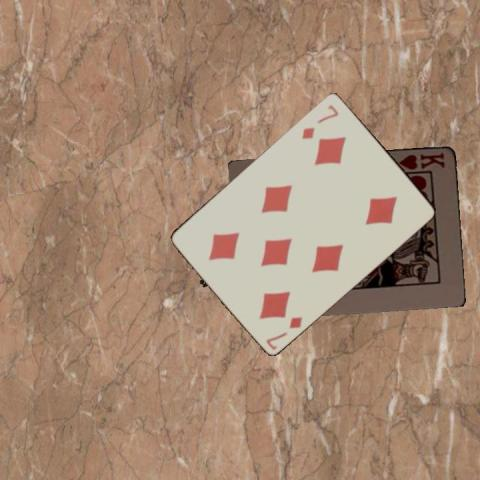7d: (299, 101, 340, 141), (263, 313, 304, 351)
Kh: (396, 150, 447, 171)
